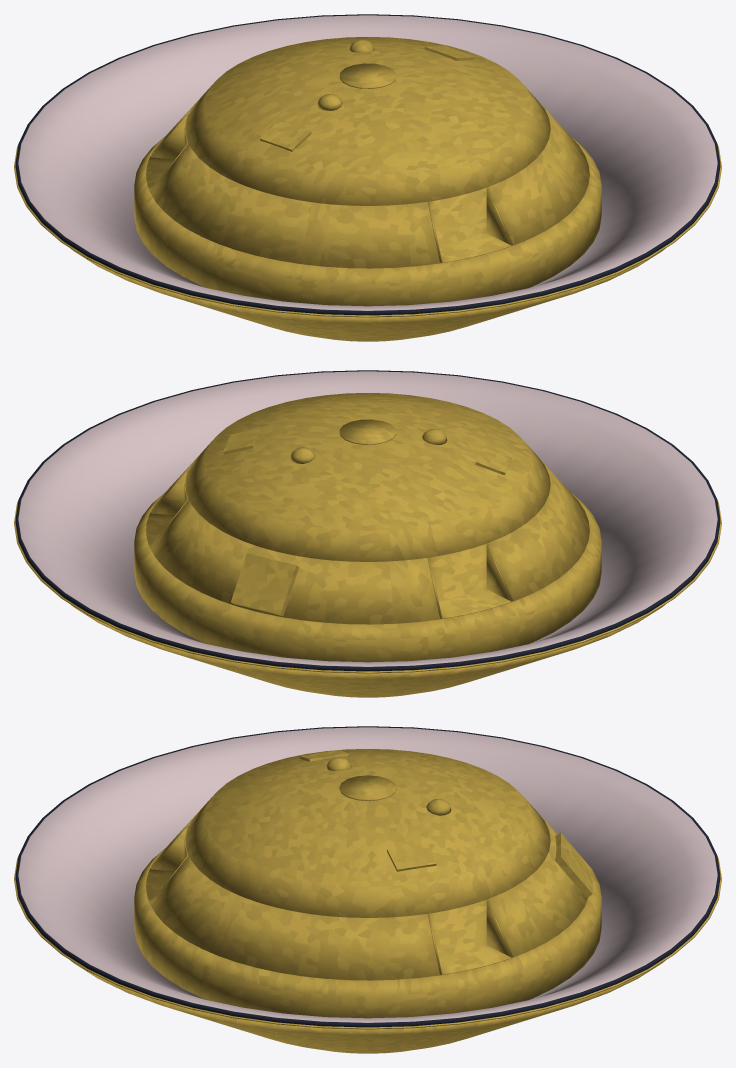
The model's file is huygens.glb.
The picture shows the model from 3 angles, top to bottom: view 1: azimuth 30°, elevation 25°; view 2: azimuth 150°, elevation 25°; view 3: azimuth 270°, elevation 25°; orthographic projection.
Visible parts, largest first — view 1: front_shield_prosial, back_cover_upper, back_cover, back_cover_cone_3, front_shield_mli, back_cover_cone_1, front_shield, seps_recess_1, pdd_patch, back_cover_door_1, seps_recess_1_b, seps_recess_3_a (+1 smaller); view 2: front_shield_prosial, back_cover_upper, back_cover, back_cover_cone_2, front_shield_mli, back_cover_cone_3, front_shield, seps_recess_3, disr_cover, pdd_patch, seps_recess_3_b, seps_recess_2_a (+3 smaller); view 3: front_shield_prosial, back_cover_upper, back_cover, back_cover_cone_1, front_shield_mli, front_shield, back_cover_cone_2, seps_recess_2, disr_cover, pdd_patch, back_cover_door_2, seps_recess_2_b (+2 smaller).
Part boxes in pixels (x1,y1,x2,y2): front_shield_prosial: (18, 15, 717, 310); back_cover_upper: (185, 37, 550, 205); back_cover: (134, 136, 601, 306); back_cover_cone_3: (150, 143, 439, 268); front_shield_mli: (14, 143, 721, 341); back_cover_cone_1: (488, 102, 589, 245); front_shield: (15, 14, 720, 315); seps_recess_1: (427, 187, 513, 263); pdd_patch: (339, 63, 396, 88); back_cover_door_1: (260, 120, 311, 151); seps_recess_1_b: (486, 188, 512, 245); seps_recess_3_a: (150, 115, 187, 159); front_shield_prosial: (18, 371, 717, 666); back_cover_upper: (185, 393, 550, 561); back_cover: (134, 492, 601, 662); back_cover_cone_2: (150, 499, 439, 624); front_shield_mli: (14, 499, 721, 697); back_cover_cone_3: (488, 458, 589, 601); front_shield: (15, 370, 720, 671); seps_recess_3: (427, 543, 513, 619); disr_cover: (231, 553, 299, 615); pdd_patch: (339, 419, 396, 444); seps_recess_3_b: (486, 544, 512, 601); seps_recess_2_a: (150, 471, 187, 515); front_shield_prosial: (18, 727, 717, 1022); back_cover_upper: (185, 749, 550, 917); back_cover: (134, 848, 601, 1018); back_cover_cone_1: (150, 855, 439, 980); front_shield_mli: (14, 855, 721, 1053); front_shield: (15, 726, 720, 1027); back_cover_cone_2: (488, 814, 588, 957); seps_recess_2: (427, 899, 513, 975); disr_cover: (555, 832, 592, 897); pdd_patch: (339, 775, 396, 800); back_cover_door_2: (387, 843, 436, 871); seps_recess_2_b: (486, 900, 512, 957).
Bounding box in the file's own units: 2.71 × 1.01 × 2.71.
Materials: 10 (2 with a texture image).
